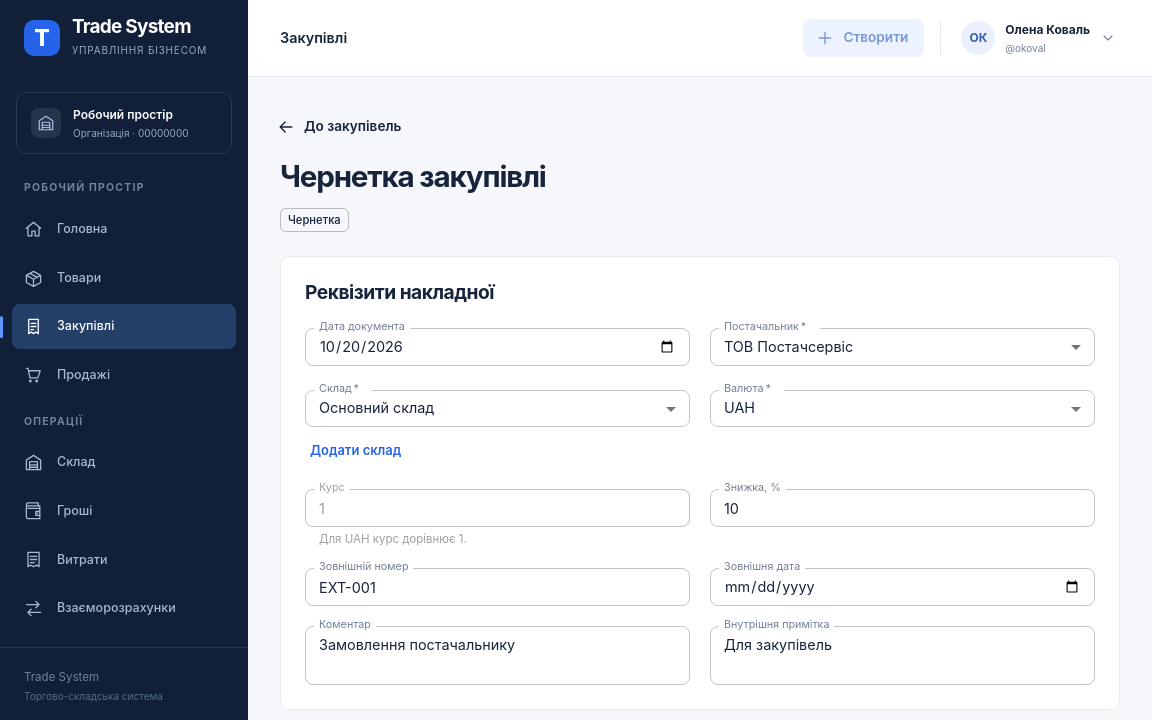
it: Purchase UI › offers only active suppliers
Click the dropdown named "Постачальник".
click(789, 346)  # box left=724, top=338, right=853, bottom=355
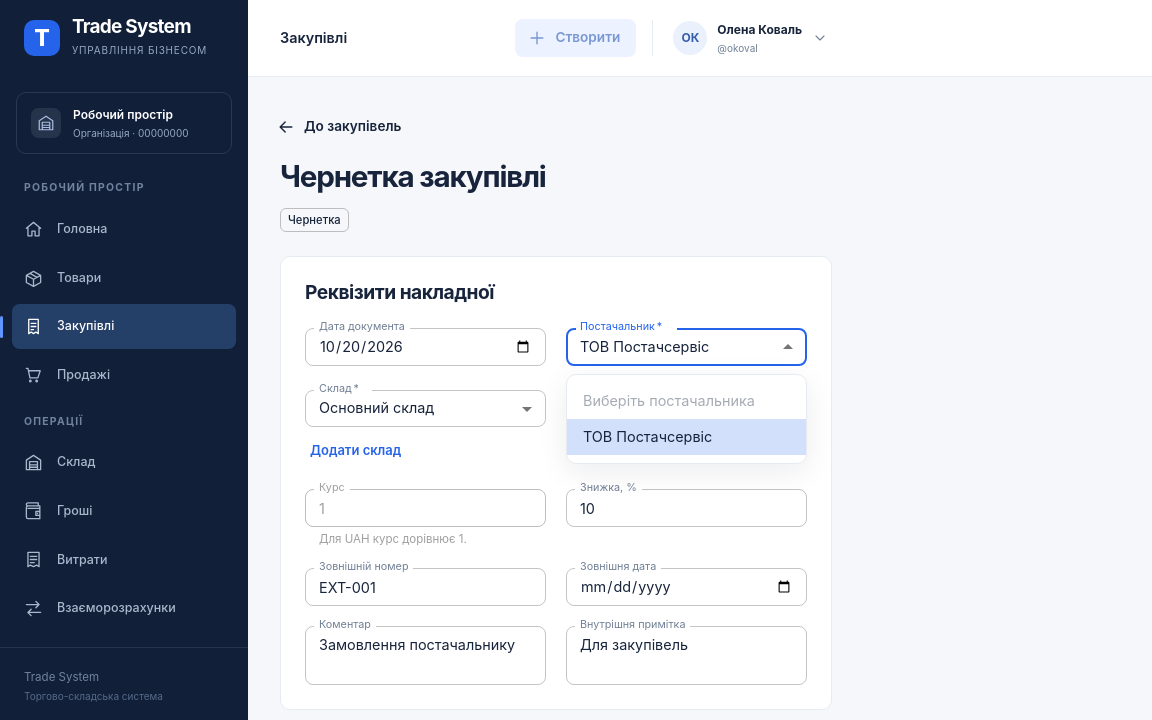
Expected: the option "ТОВ Постачсервіс" is shown, left=567, top=419, right=806, bottom=455
